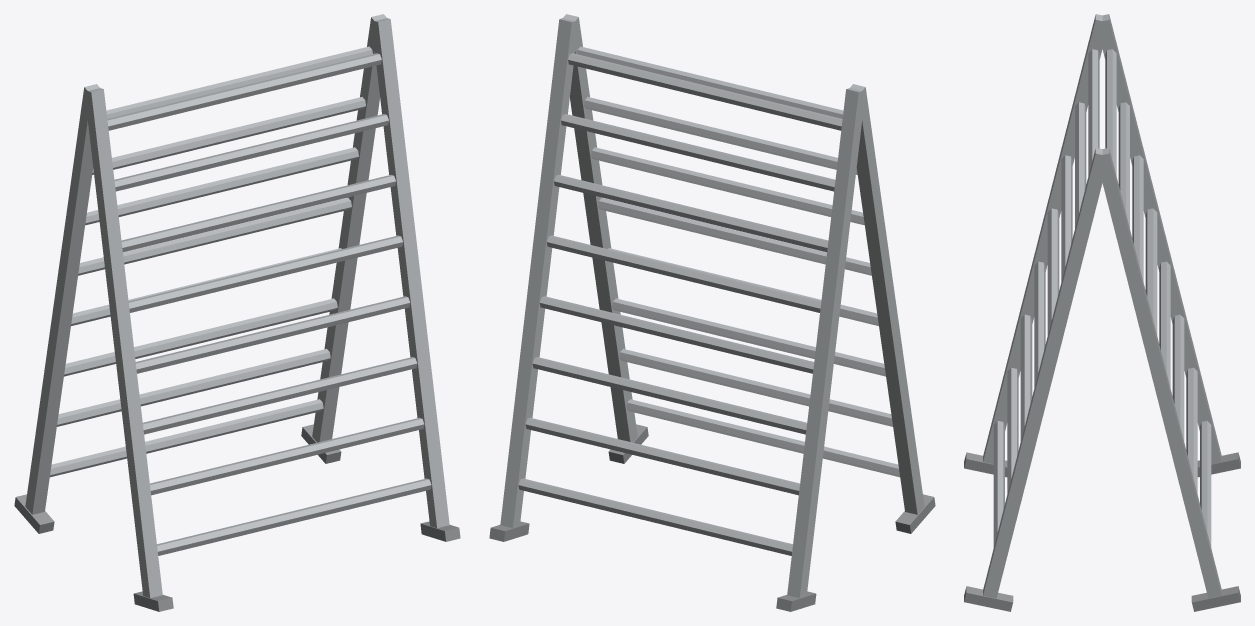
The model's file is SM_LPI_Util_Airer_01.fbx.
3 views of the same model, side by side, from view 1: azimuth 30°, elevation 25°; view 2: azimuth 150°, elevation 25°; view 3: azimuth 270°, elevation 25° (orthographic). The views are drawn at different scales.
Parts seen in each view (by area): view 1: SM_LPI_Util_Airer_01; view 2: SM_LPI_Util_Airer_01; view 3: SM_LPI_Util_Airer_01.
Part boxes in pixels (box(x1,y1,x2,y2)): SM_LPI_Util_Airer_01: box(14, 14, 460, 611); SM_LPI_Util_Airer_01: box(489, 14, 935, 611); SM_LPI_Util_Airer_01: box(964, 14, 1240, 611).
Size of the model in its own units: 0.624 by 0.9484 by 0.5196.
